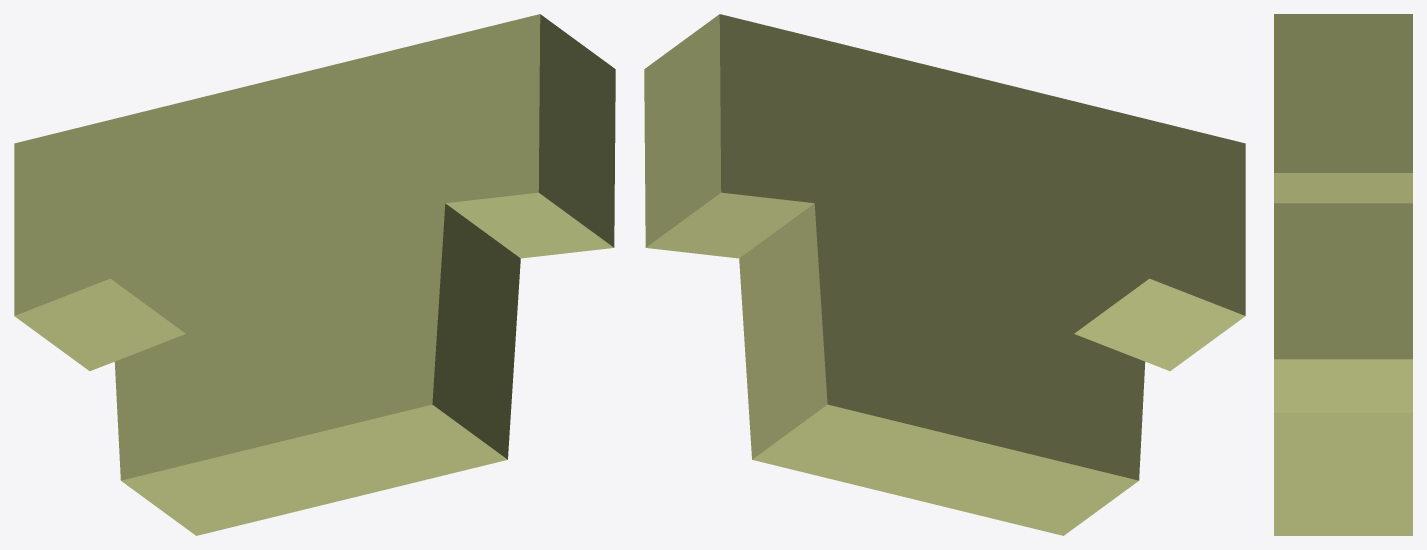
The picture shows the model from 3 angles, left to right: view 1: azimuth 30°, elevation 25°; view 2: azimuth 150°, elevation 25°; view 3: azimuth 270°, elevation 25°; orthographic projection. The views are drawn at different scales.
Parts seen in each view (by area): view 1: 0_0_3_1_2_3_2_0_1; view 2: 0_0_3_1_2_3_2_0_1; view 3: 0_0_3_1_2_3_2_0_1.
Boxes of the visible parts, x1,y1,x2,y2 form: 0_0_3_1_2_3_2_0_1: [14, 14, 615, 535]; 0_0_3_1_2_3_2_0_1: [644, 14, 1245, 535]; 0_0_3_1_2_3_2_0_1: [1274, 14, 1412, 535].
Bounding box in the file's own units: 36.2 × 23.96 × 9.
